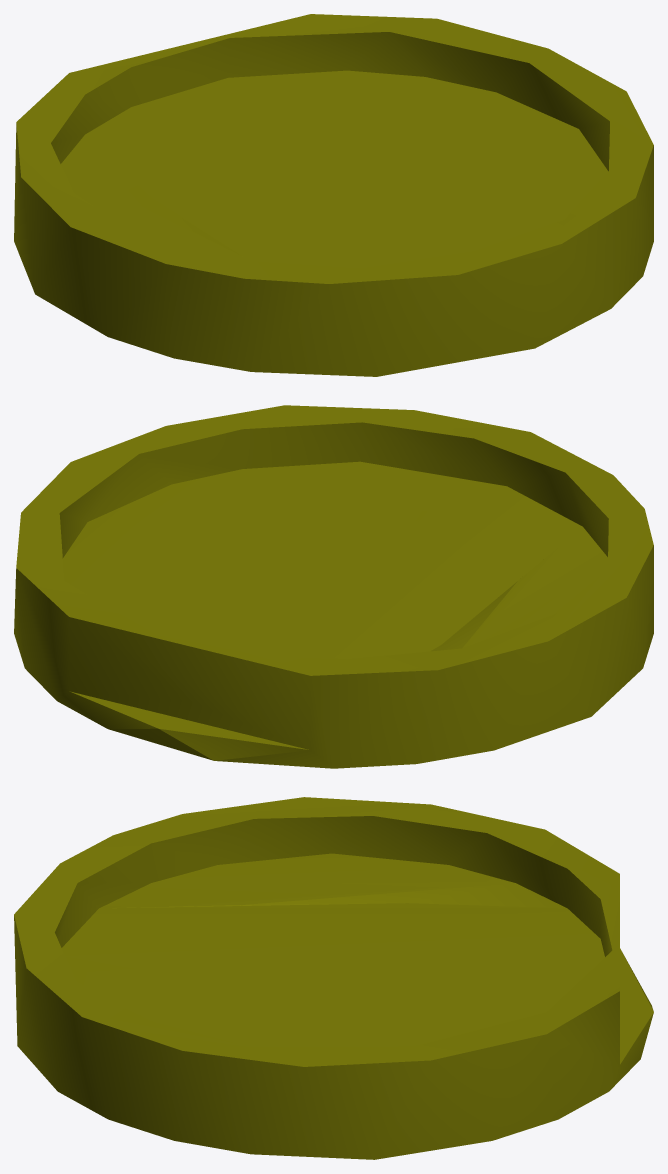
The picture shows the model from 3 angles, top to bottom: view 1: azimuth 30°, elevation 25°; view 2: azimuth 150°, elevation 25°; view 3: azimuth 270°, elevation 25°; orthographic projection.
Visible parts, largest first — view 1: es165rd-a00_lk6; view 2: es165rd-a00_lk6; view 3: es165rd-a00_lk6.
Boxes of the visible parts, x1,y1,x2,y2 form: es165rd-a00_lk6: [14, 14, 653, 376]; es165rd-a00_lk6: [14, 405, 653, 768]; es165rd-a00_lk6: [14, 797, 653, 1159].
Bounding box in the file's own units: 0.1605 × 0.1608 × 0.026.
